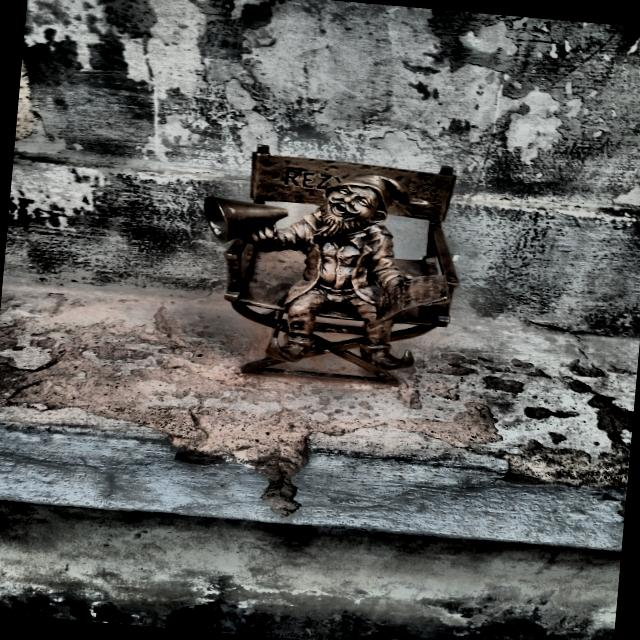Rezyser: (204, 145, 459, 384)
